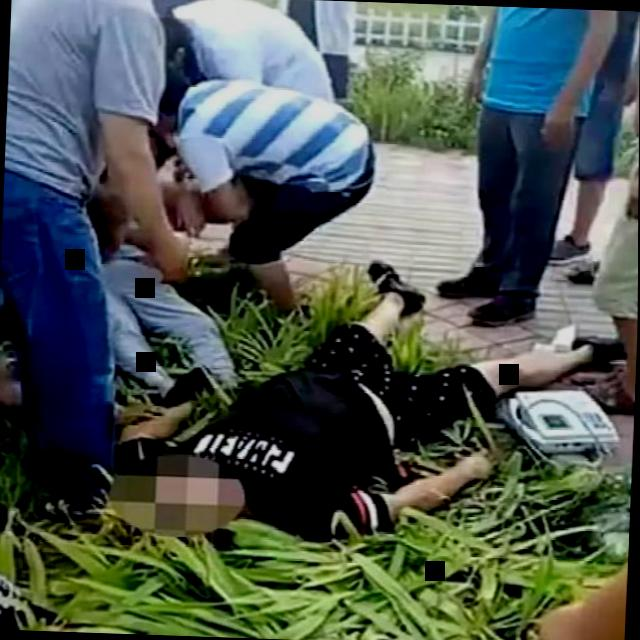Fall-Detected: (29, 202, 265, 459)
